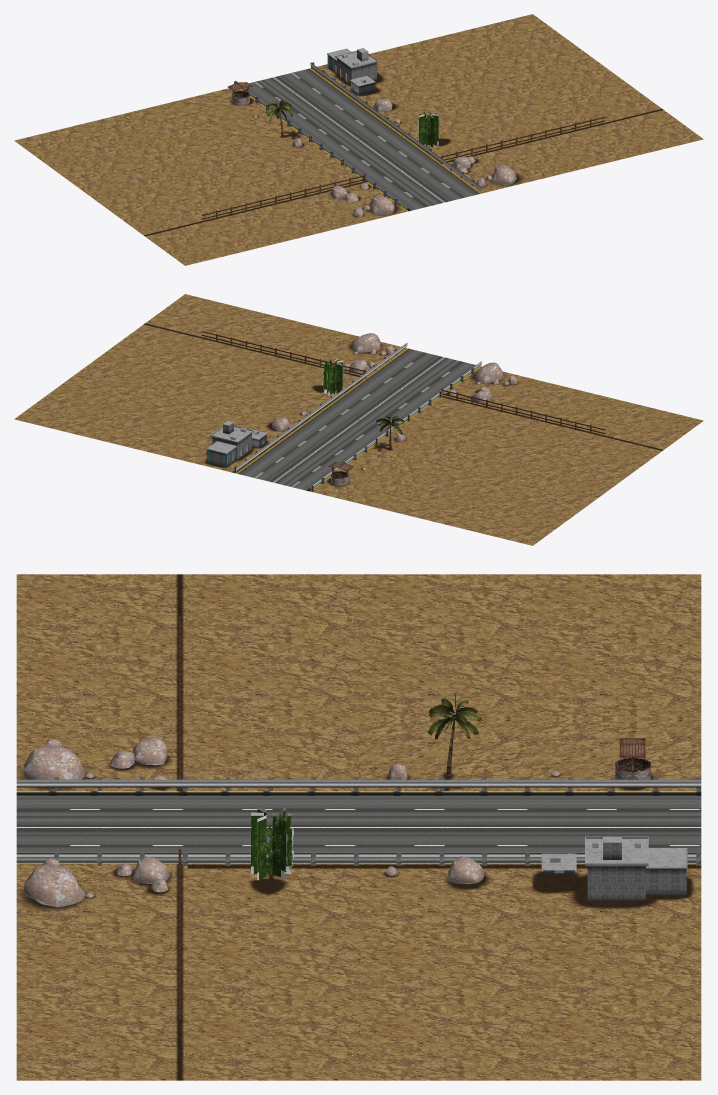
The model's file is end1.FBX.
The picture shows the model from 3 angles, top to bottom: view 1: azimuth 30°, elevation 25°; view 2: azimuth 150°, elevation 25°; view 3: azimuth 270°, elevation 25°; orthographic projection. The views are drawn at different scales.
Parts seen in each view (by area): view 1: land001, road001, boundry1, rock, relling001, b1, tree2, tree1, b2; view 2: land001, road001, boundry1, rock, relling001, b1, tree2, b2; view 3: land001, road001, relling001, rock, boundry1, b1, tree2, tree1, b2.
Boxes of the visible parts, x1,y1,x2,y2 form: land001: (14,14,703,265); road001: (240,68,481,211); boundry1: (142,108,664,237); rock: (253,99,516,216); relling001: (234,62,481,209); b1: (327,48,378,94); tree2: (418,110,438,147); tree1: (265,99,292,137); b2: (227,82,252,105); land001: (14,294,703,545); road001: (236,348,481,491); boundry1: (143,322,664,451); rock: (272,333,517,470); relling001: (234,343,481,491); b1: (207,421,267,467); tree2: (322,357,343,395); b2: (328,462,353,485); land001: (16,574,701,1080); road001: (16,791,701,863); relling001: (16,777,701,865); rock: (23,737,559,907); boundry1: (172,574,187,1080); b1: (541,836,687,900); tree2: (251,806,293,880); tree1: (428,693,482,775); b2: (615,738,650,779).
Bounding box in the file's own units: 140 × 11.97 × 80.
